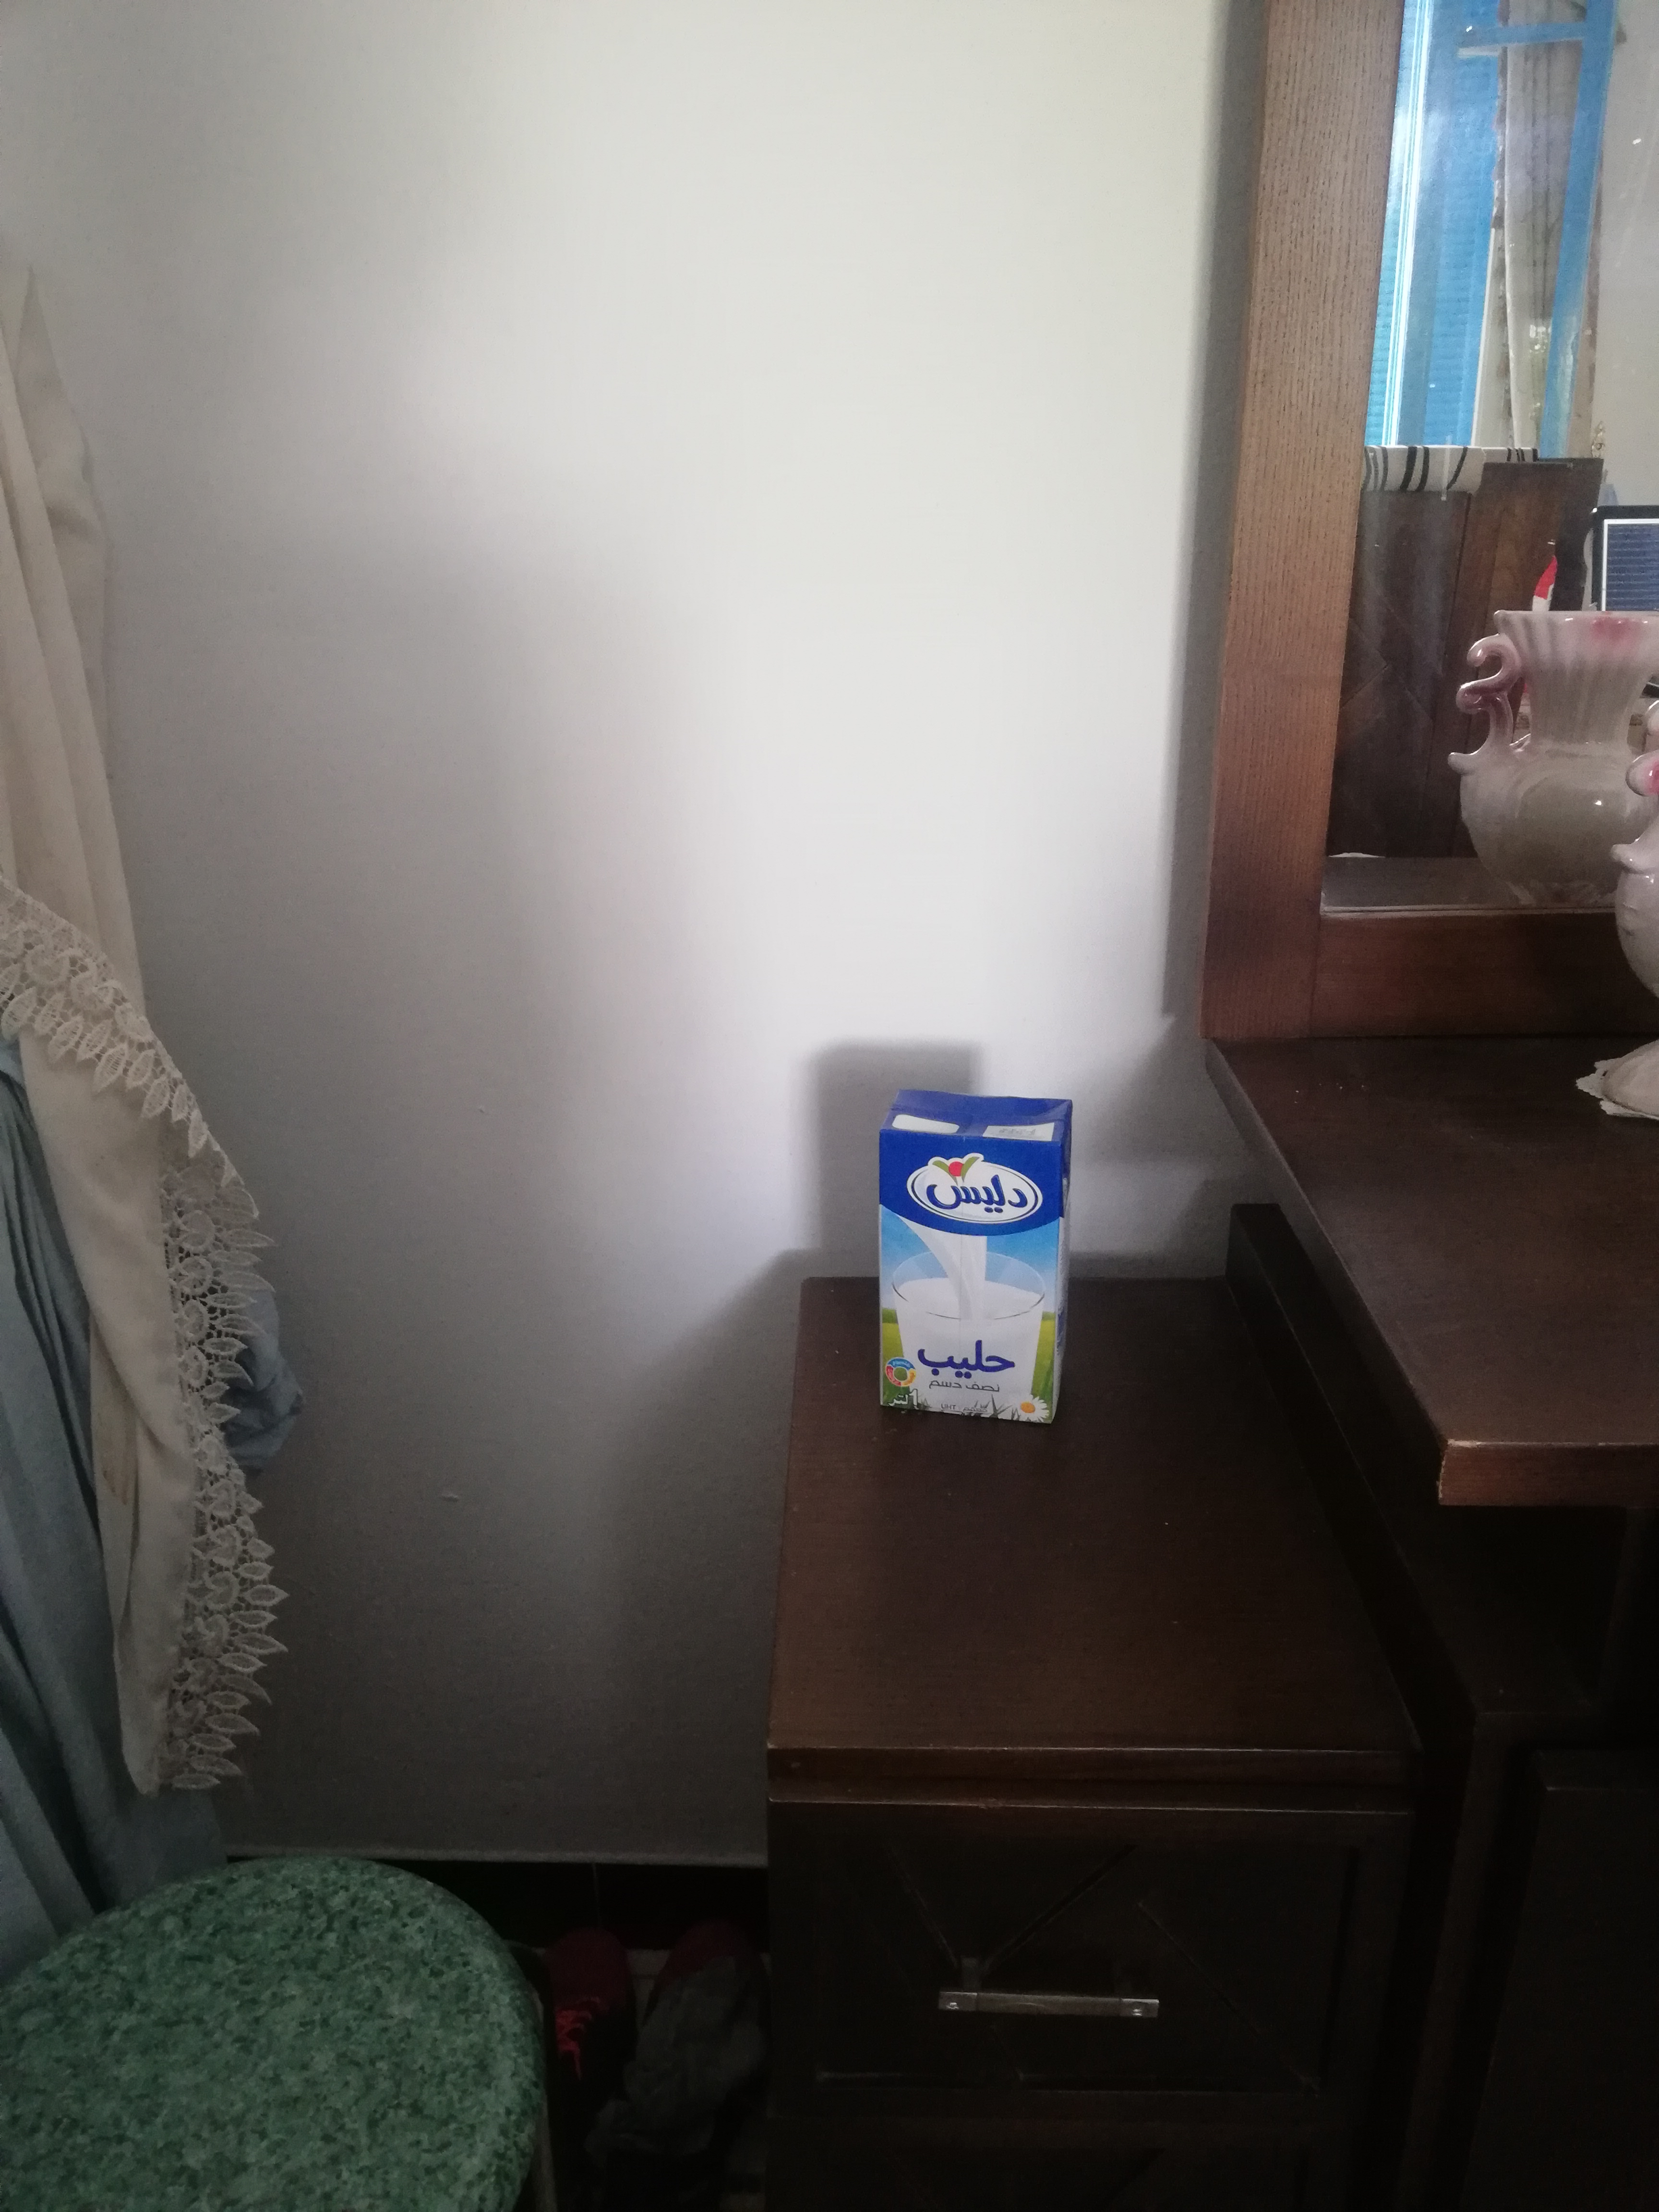Lait delice: (870, 1089, 1080, 1425)
